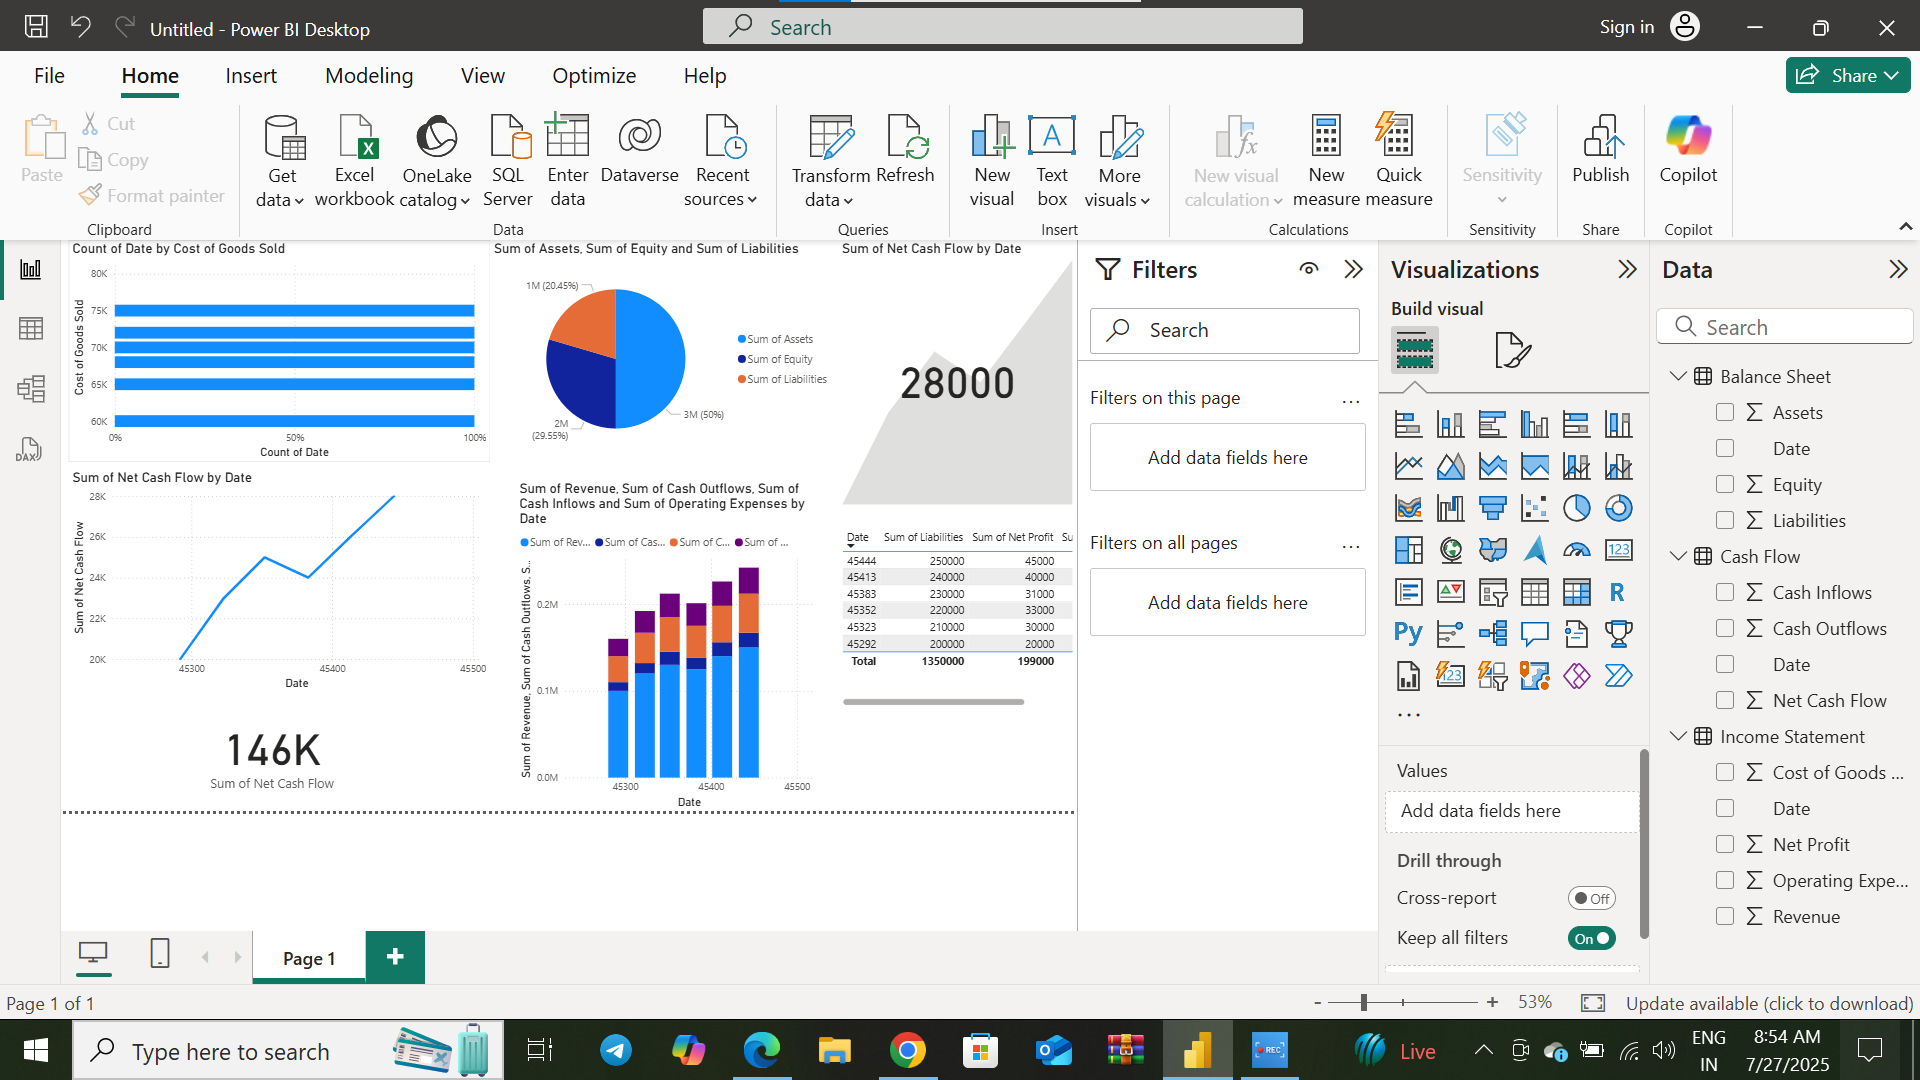

This screenshot's page, from the dashboard's own definition file:
{"tool":"powerbi","page":{"name":"Page 1","canvas":[1280,720],"ordinal":0},"visuals":[{"type":"hundredPercentStackedBarChart","fields":{"Y":["CountNonNull(Balance Sheet.Date)"],"Category":["Income Statement.Cost of Goods Sold","Income Statement.Revenue","Income Statement.Operating Expenses"]},"box":[9.4,0,531,279.7],"z":0},{"type":"lineChart","fields":{"Category":["Cash Flow.Date"],"Y":["Sum(Cash Flow.Net Cash Flow)"]},"box":[9.4,289.1,531,281.6],"z":1},{"type":"card","fields":{"Values":["Sum(Cash Flow.Net Cash Flow)"]},"box":[9,570,512,150],"z":2},{"type":"pieChart","fields":{"Y":["Sum(Balance Sheet.Assets)","Sum(Balance Sheet.Equity)","Sum(Balance Sheet.Liabilities)"]},"box":[540.5,0,438.4,279.7],"z":3},{"type":"columnChart","fields":{"Category":["Cash Flow.Date"],"Y":["Sum(Income Statement.Revenue)","Sum(Cash Flow.Cash Outflows)","Sum(Cash Flow.Cash Inflows)","Sum(Income Statement.Operating Expenses)"]},"box":[572.6,302.4,379.8,417.6],"z":4},{"type":"kpi","fields":{"TrendLine":["Cash Flow.Date"],"Indicator":["Sum(Cash Flow.Net Cash Flow)"]},"box":[978.9,0,300.5,338.3],"z":6},{"type":"tableEx","fields":{"Values":["Income Statement.Date","Sum(Balance Sheet.Liabilities)","Sum(Income Statement.Net Profit)","Sum(Balance Sheet.Assets)"]},"box":[978.9,359.1,300.5,232.4],"z":7}]}

Visuals, with their boxes on the page's 1280x720 design canvas (x1, y1, x2, y2). These are canvas units, not pixel positions in the 1920x1080 screenshot, which may show the page scaled, cropped or inside an application window:
hundredPercentStackedBarChart - CountNonNull(Balance Sheet.Date) x Income Statement.Cost of Goods Sold: {"left": 9, "top": 0, "right": 540, "bottom": 280}
lineChart - Cash Flow.Date x Sum(Cash Flow.Net Cash Flow): {"left": 9, "top": 289, "right": 540, "bottom": 571}
card - Sum(Cash Flow.Net Cash Flow): {"left": 9, "top": 570, "right": 521, "bottom": 720}
pieChart - Sum(Balance Sheet.Assets) x Sum(Balance Sheet.Equity): {"left": 540, "top": 0, "right": 979, "bottom": 280}
columnChart - Cash Flow.Date x Sum(Income Statement.Revenue): {"left": 573, "top": 302, "right": 952, "bottom": 720}
kpi - Cash Flow.Date x Sum(Cash Flow.Net Cash Flow): {"left": 979, "top": 0, "right": 1279, "bottom": 338}
tableEx - Income Statement.Date x Sum(Balance Sheet.Liabilities): {"left": 979, "top": 359, "right": 1279, "bottom": 592}
